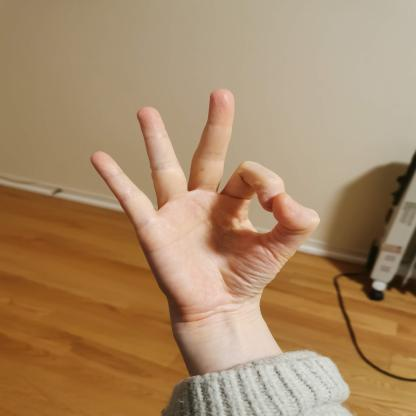nine: (90, 85, 326, 321)
